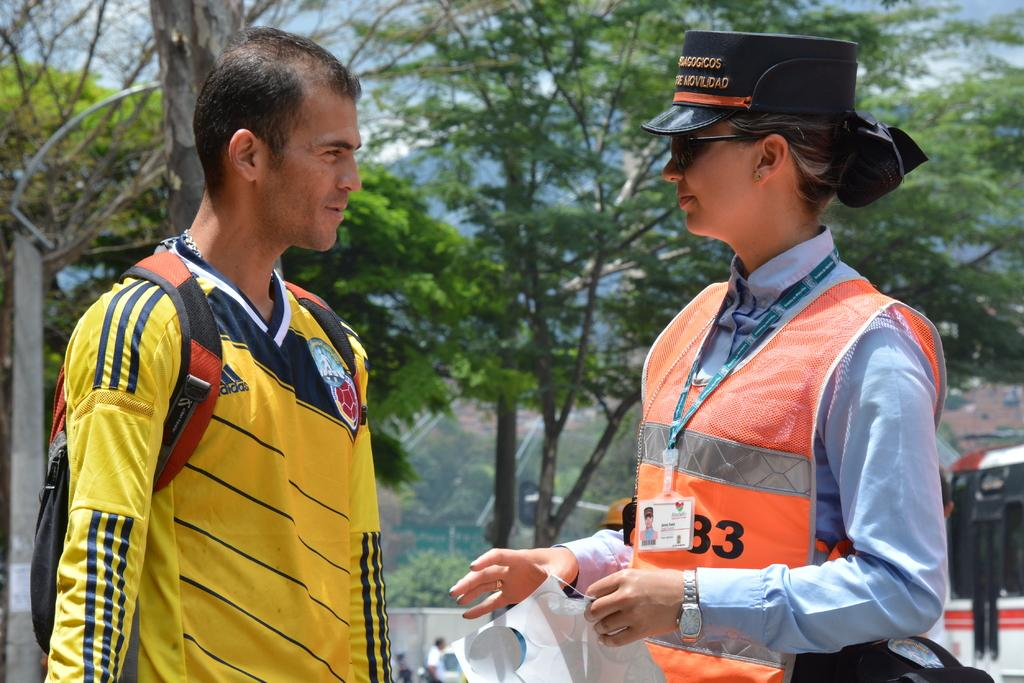Hat: (631, 28, 924, 210)
